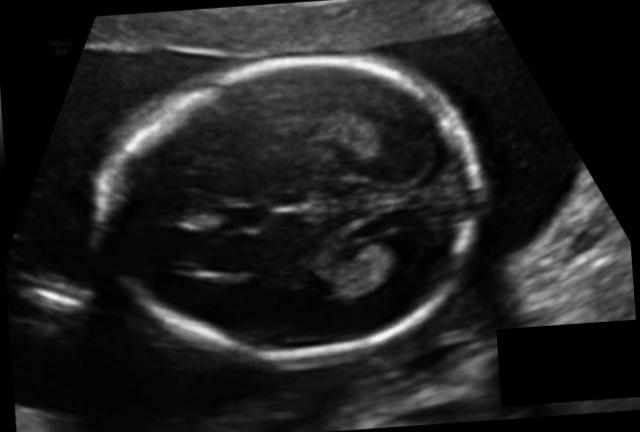CHOROID_PLEXUS: (312, 242, 404, 306)
CSP: (170, 182, 264, 252)
MIDLINE_FALX: (136, 162, 480, 256)
